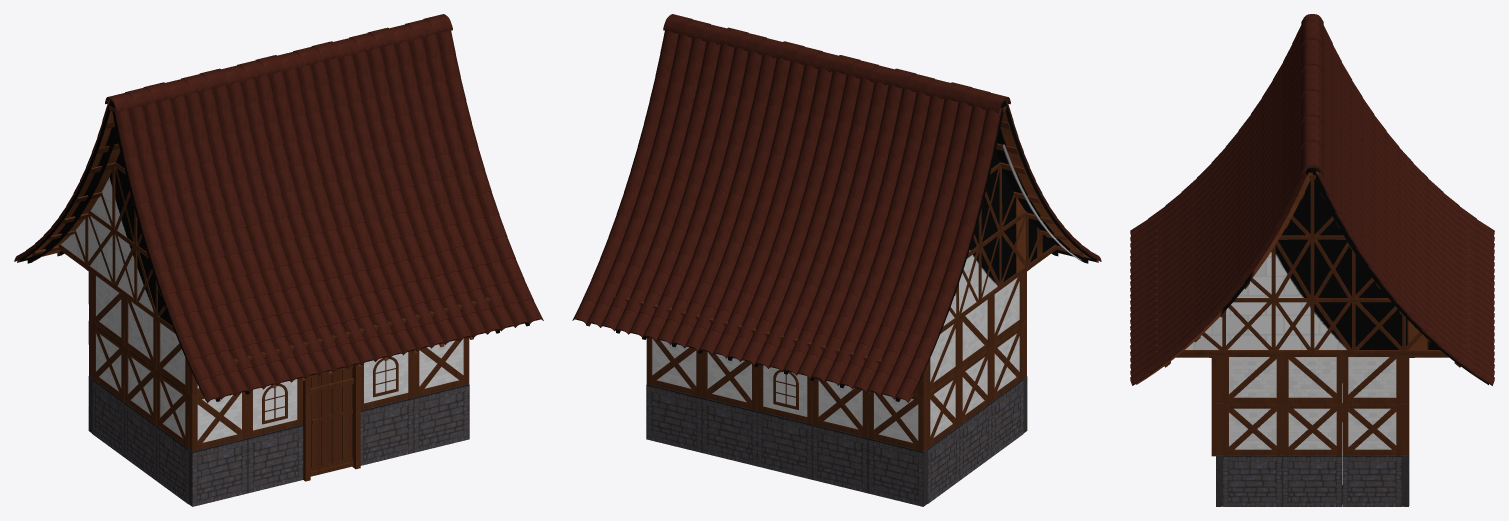
The model's file is House3_LOD1.fbx.
3 renders of one model, left to right at view 1: azimuth 30°, elevation 25°; view 2: azimuth 150°, elevation 25°; view 3: azimuth 270°, elevation 25°, orthographic. The views are drawn at different scales.
Visible parts, largest first — view 1: House3_LOD1; view 2: House3_LOD1; view 3: House3_LOD1.
Boxes of the visible parts, <box> form: House3_LOD1: <box>14,14,543,506</box>; House3_LOD1: <box>572,14,1101,506</box>; House3_LOD1: <box>1130,14,1494,506</box>.
Size of the model in its own units: 1285 by 1384 by 1292.
